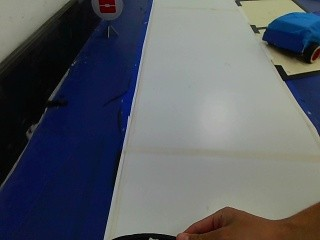car: (252, 10, 318, 65)
company: (89, 0, 122, 22)
